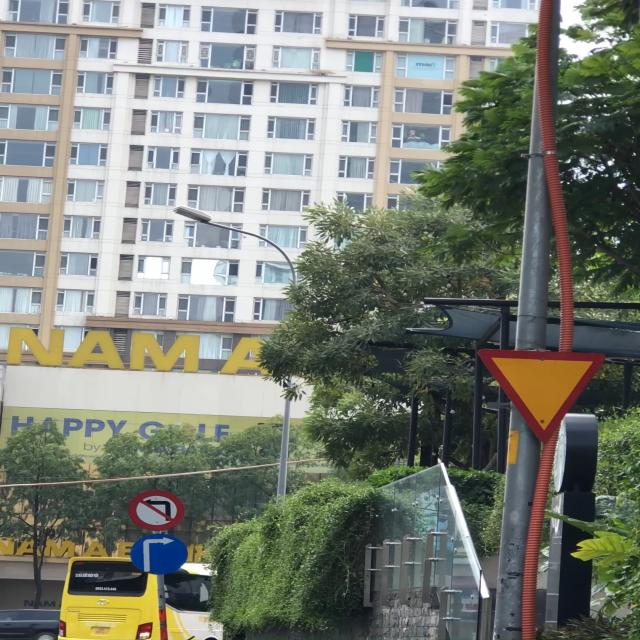Bien bao cam re trai: (124, 485, 186, 533)
Bien bao giao nhau voi duong uu tien: (474, 344, 616, 446)
Bien bao huong di phai theo: (131, 532, 191, 579)
